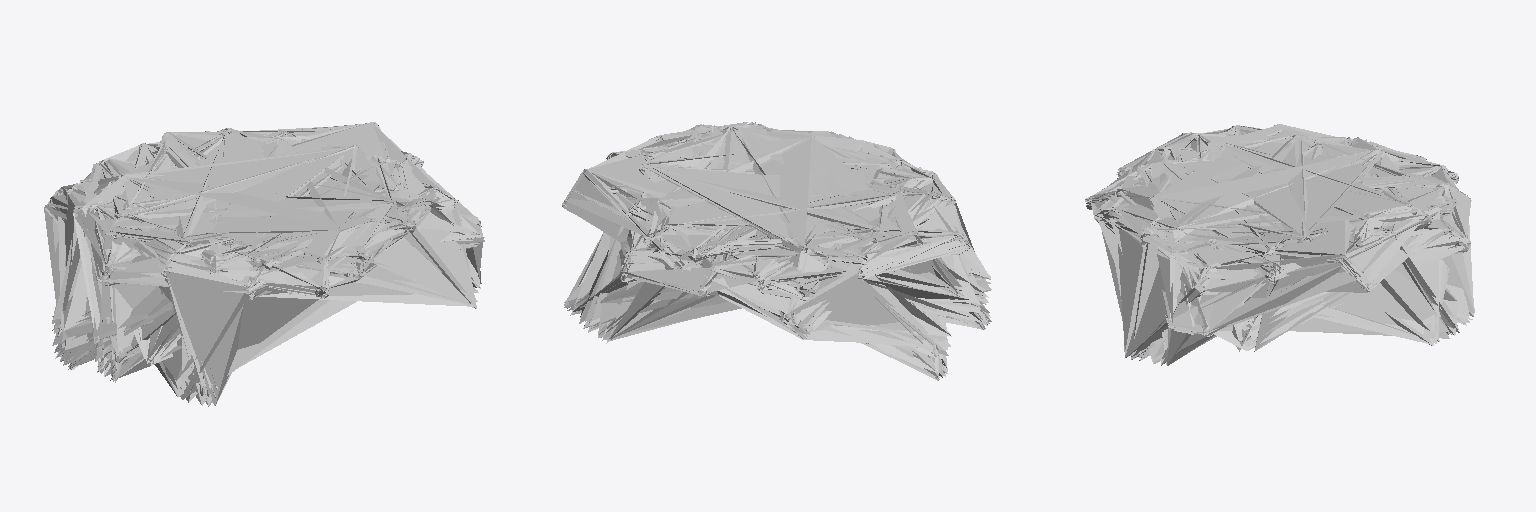
File: icing.obj
The picture shows the model from 3 angles: view 1: azimuth 30°, elevation 25°; view 2: azimuth 150°, elevation 25°; view 3: azimuth 270°, elevation 25°; orthographic projection.
Parts seen in each view (by area): view 1: Icing_Torus.002; view 2: Icing_Torus.002; view 3: Icing_Torus.002.
Boxes of the visible parts, box(x1,y1,x2,y2) form: Icing_Torus.002: box(44, 122, 484, 406); Icing_Torus.002: box(562, 122, 991, 380); Icing_Torus.002: box(1085, 124, 1474, 365).
Bounding box in the file's own units: 0.0568 × 0.0213 × 0.0509.